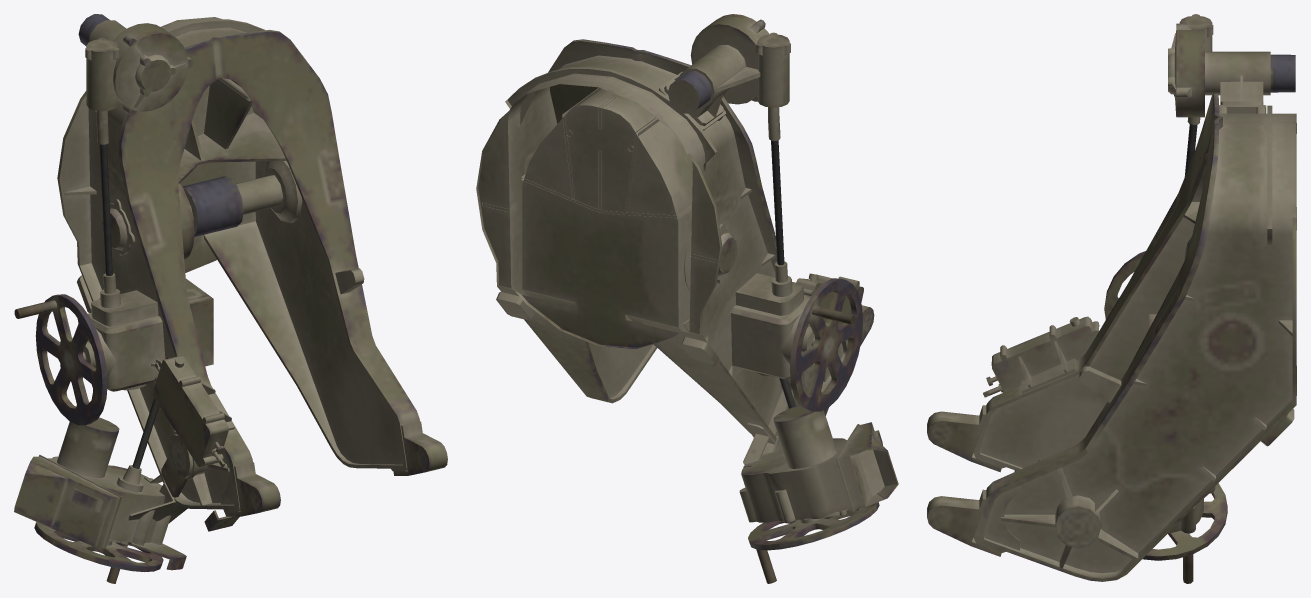
File: Turret_01.glb
The picture shows the model from 3 angles, left to right: view 1: azimuth 30°, elevation 25°; view 2: azimuth 150°, elevation 25°; view 3: azimuth 270°, elevation 25°; orthographic projection. The views are drawn at different scales.
Visible parts, largest first — view 1: set_0_group_0; view 2: set_0_group_0; view 3: set_0_group_0.
Boxes of the visible parts, bbox=[...] form: set_0_group_0: bbox=[14, 14, 447, 583]; set_0_group_0: bbox=[476, 14, 898, 583]; set_0_group_0: bbox=[927, 14, 1296, 583].
Bounding box in the file's own units: 1.04 × 1.55 × 0.919.
Materials: 1 (1 with a texture image).
